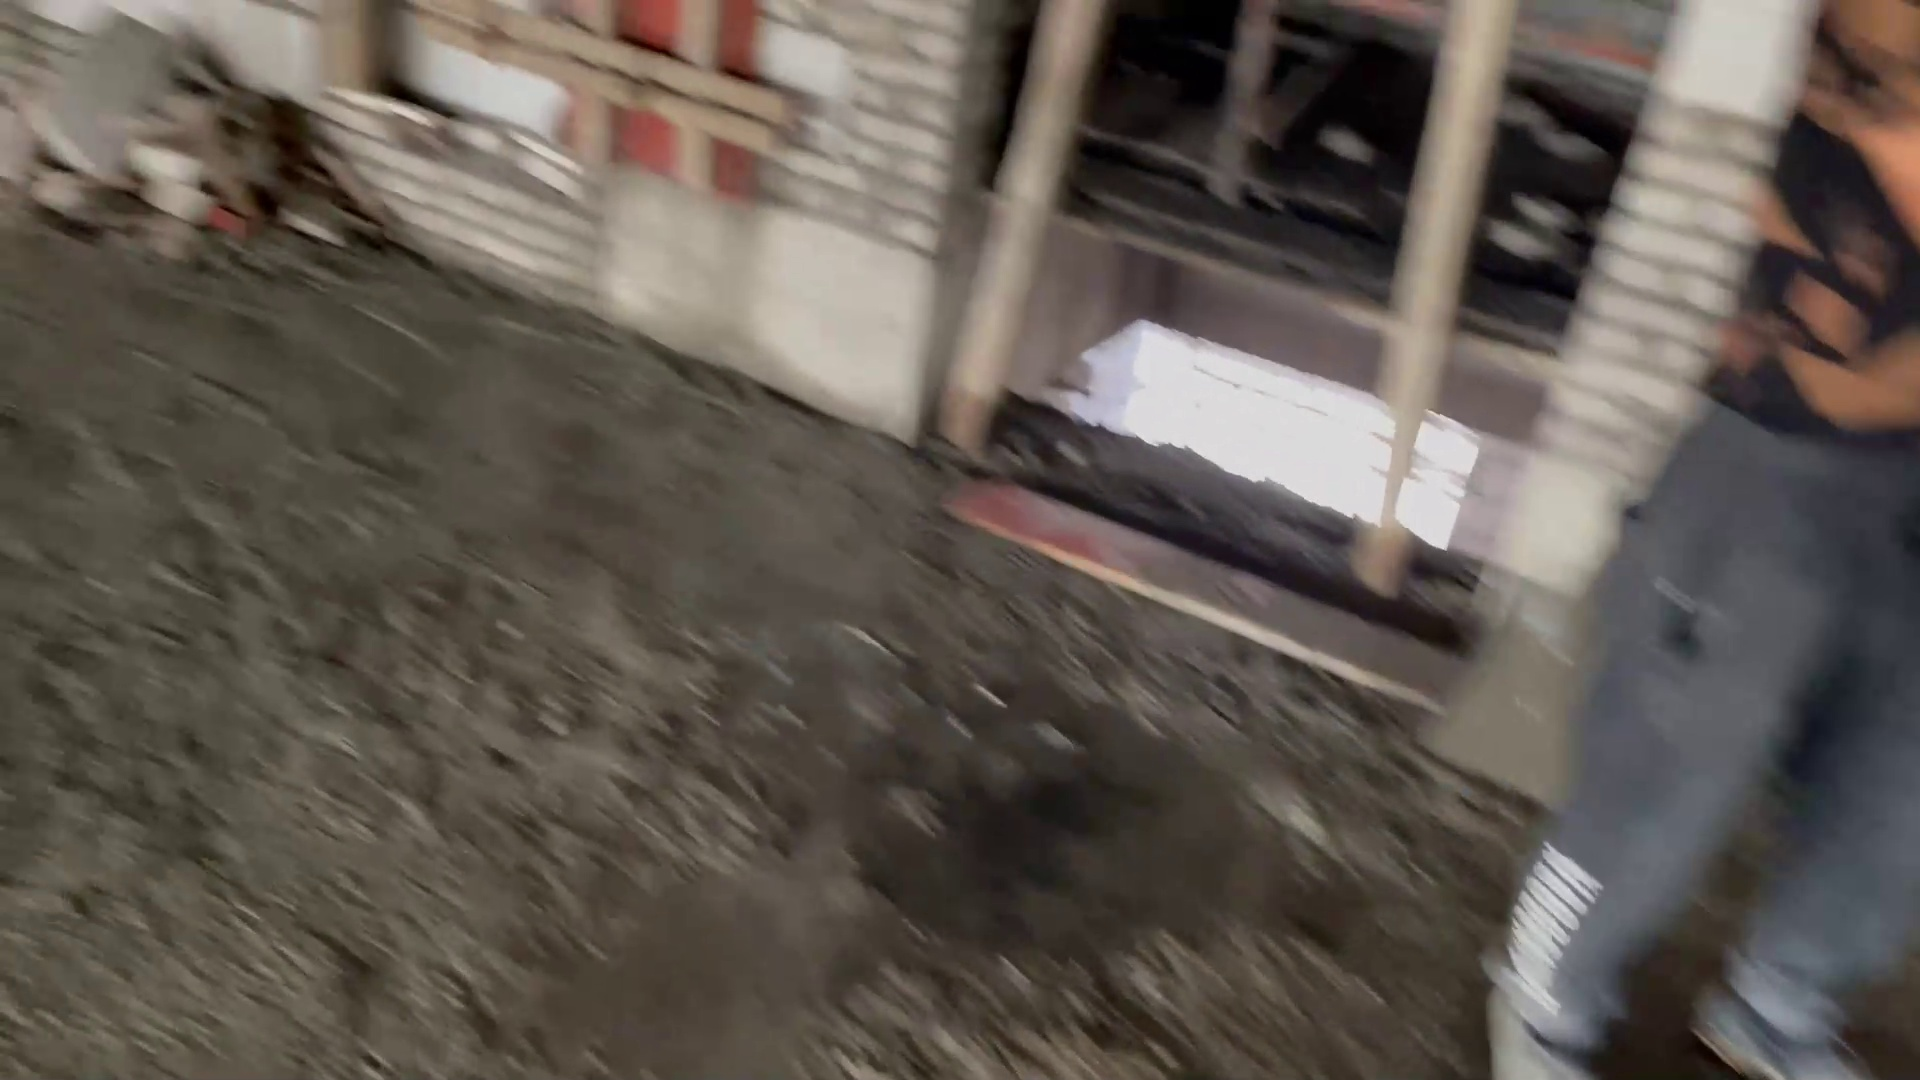person: (1460, 7, 1920, 1077)
